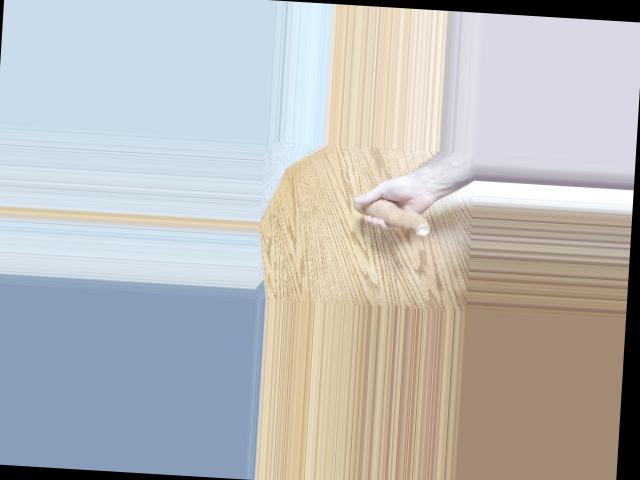sweet_potato: (347, 196, 436, 236)
